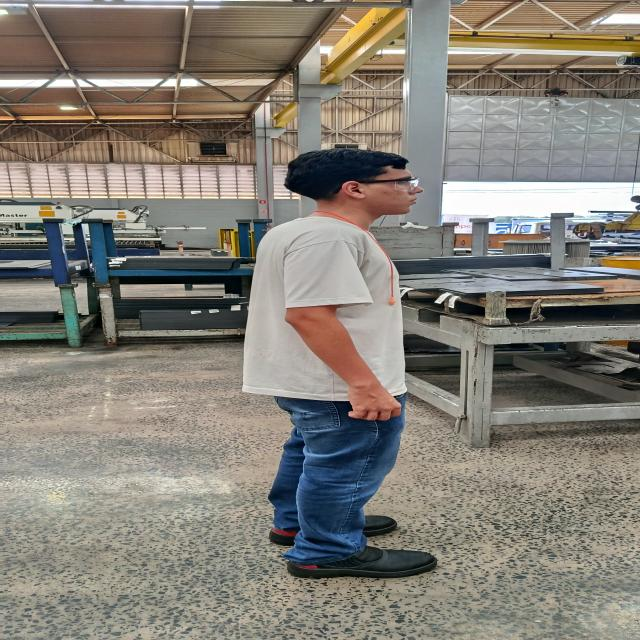oculos-epi: (357, 177, 419, 192)
